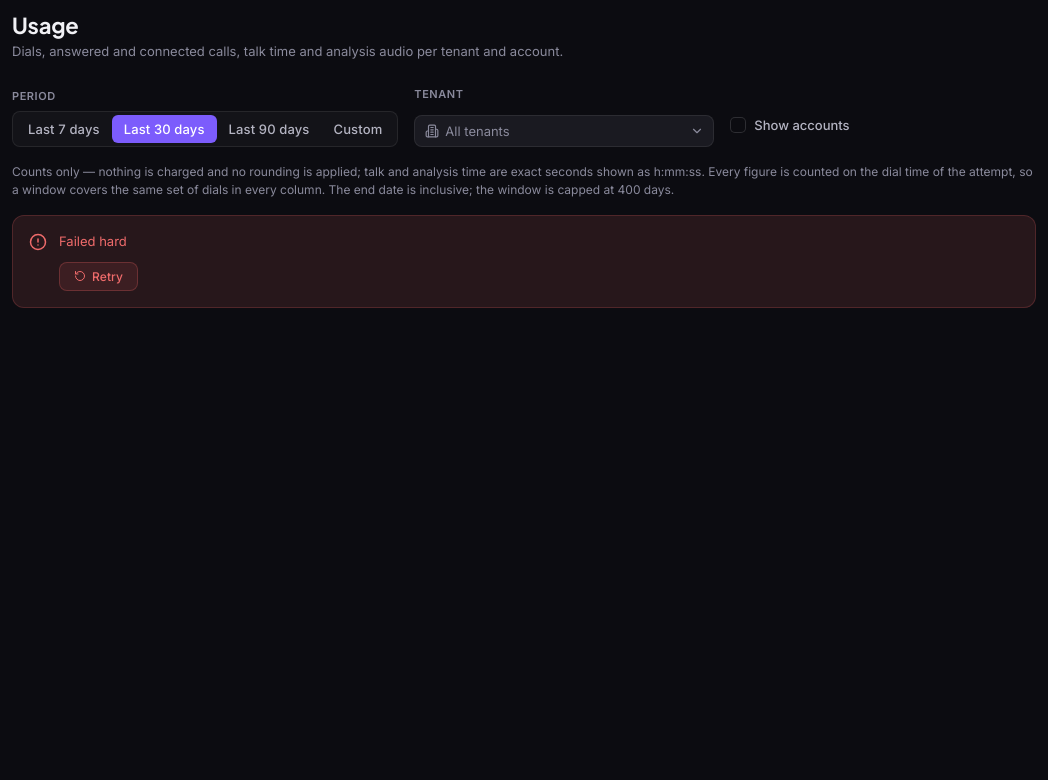
SAUsagePage › shows the error with a retry that asks again
Check: the text "Failed hard" is shown, box [59,234,127,250]
Step 1. Click the button "Retry" → (99, 276), box [59,262,138,291]
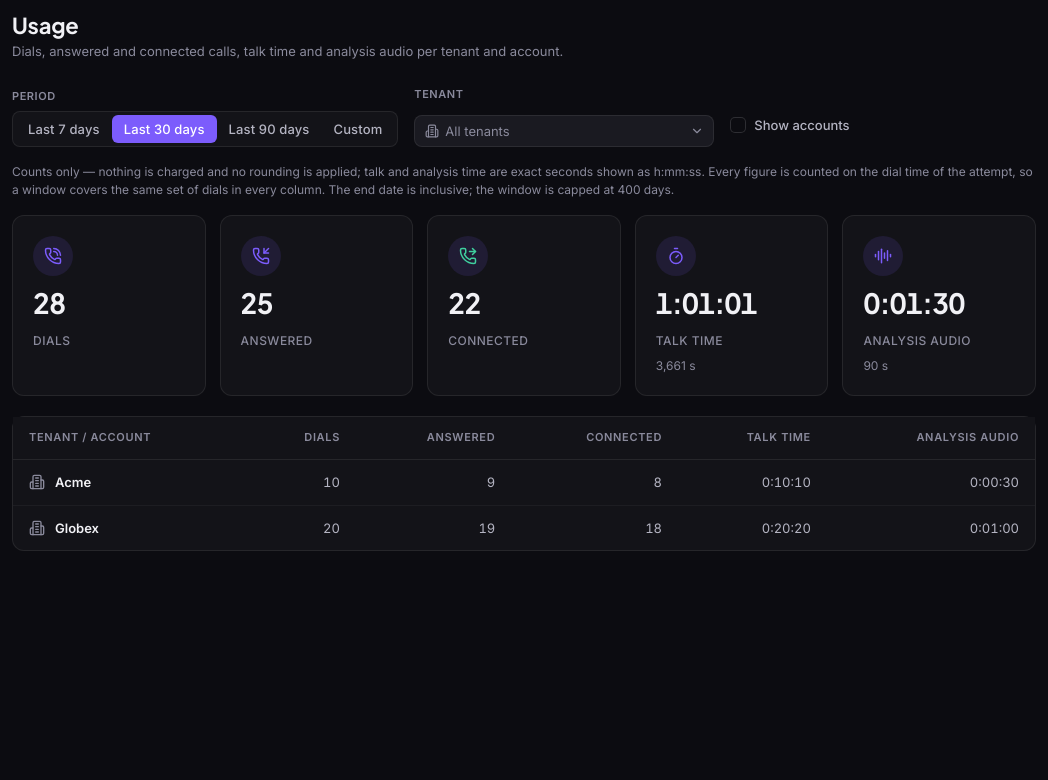
Check: the text "Acme" is shown, box [55,472,91,493]
